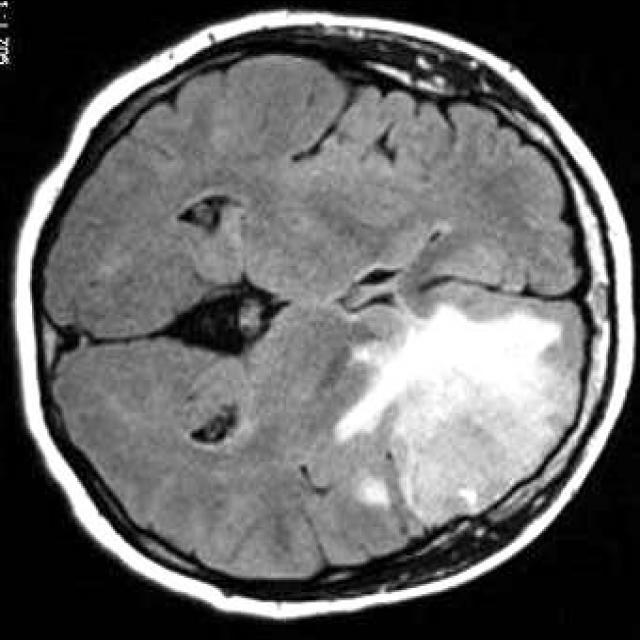tumor: (337, 275, 595, 528)
